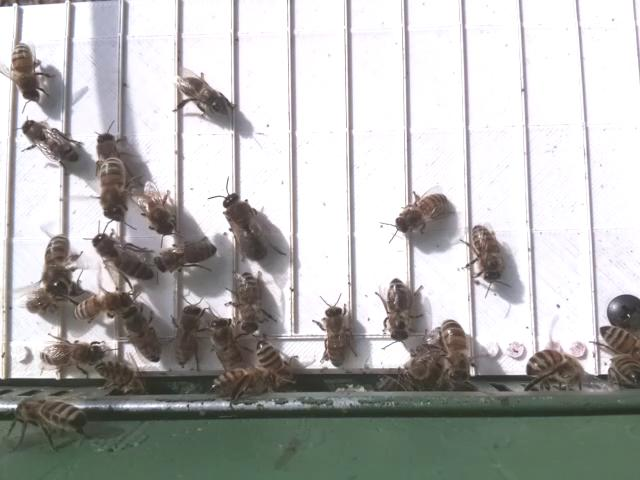Drone: (221, 188, 273, 265)
Worker: (90, 231, 153, 286), (18, 117, 83, 166), (152, 236, 220, 275), (120, 306, 166, 363), (468, 221, 506, 289), (169, 301, 206, 370), (395, 190, 449, 236), (175, 71, 229, 117), (524, 346, 586, 385), (382, 272, 415, 345), (35, 337, 109, 369), (254, 335, 296, 391), (210, 314, 247, 377), (441, 315, 471, 390), (41, 231, 73, 301), (231, 269, 263, 339), (96, 155, 129, 222), (9, 41, 42, 103), (73, 288, 129, 323), (322, 304, 353, 367), (596, 320, 640, 359)
